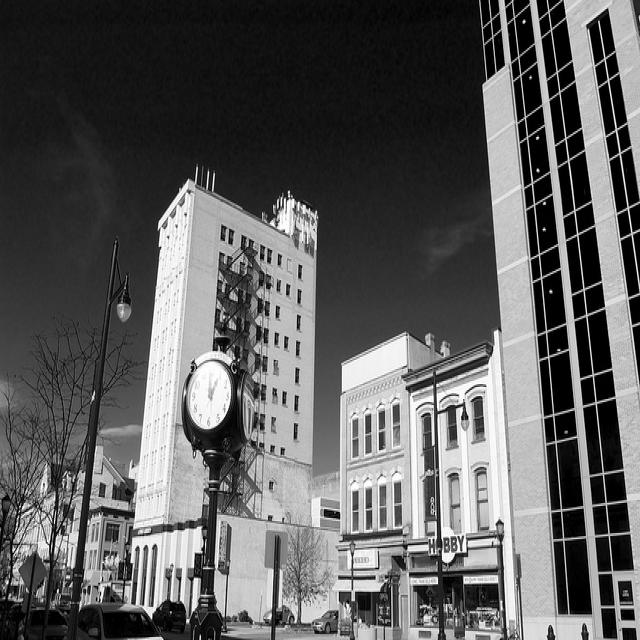Vehicle: (76, 602, 165, 640), (22, 611, 68, 640), (152, 600, 187, 635), (311, 609, 339, 634), (264, 606, 296, 624), (52, 592, 71, 611)
